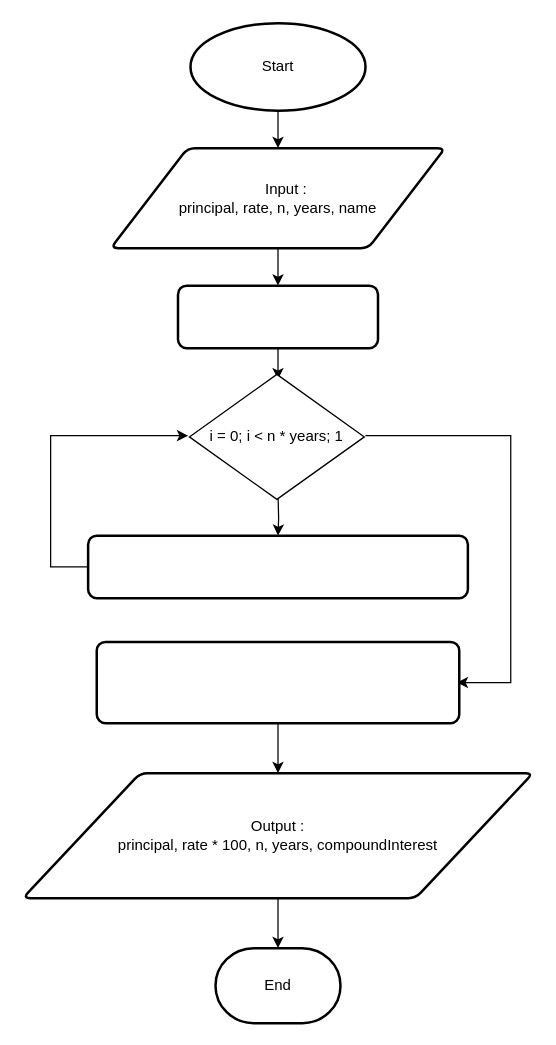
Some shapes in this 556 by 1045 pixel diagram are drawn without their labels. Here are the shapes that lost their labels. From the top down, the centre of each, then its label:
At point 277,316: "compoundInterest = principal".
At point 277,566: "compoundInterest = compoundInterest * (1 + rate)".
At point 277,682: "compoundInterest = compoundInterest - principal".
